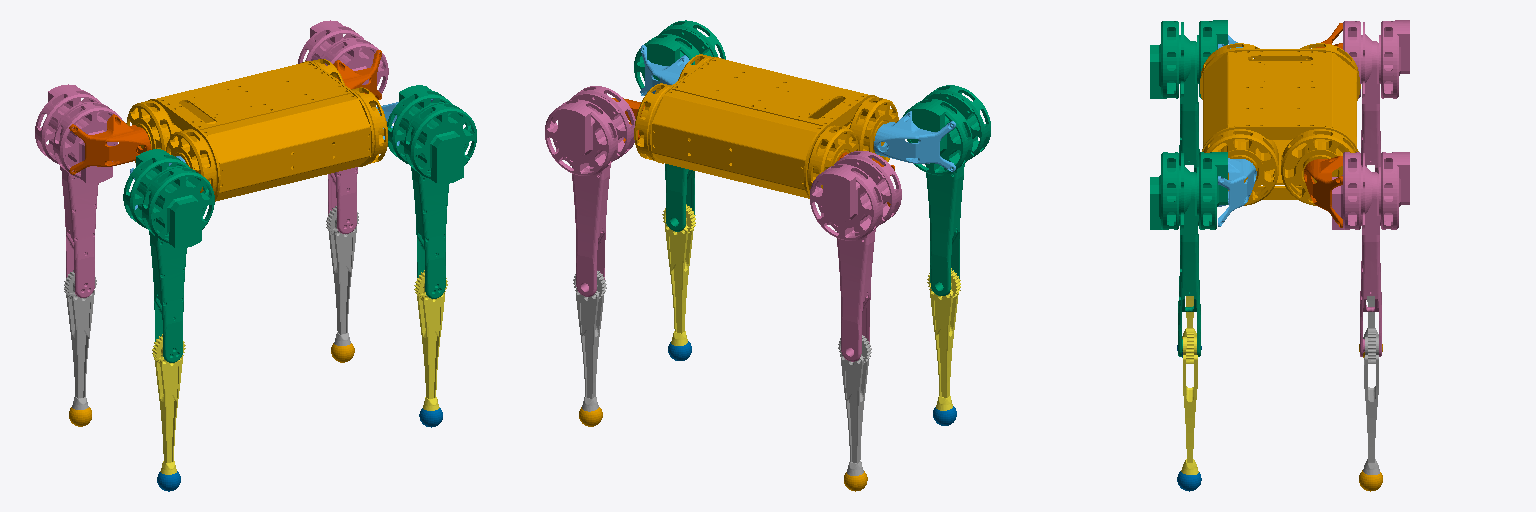
The robot description file, URDF, robot "mini_cheetah":
<?xml version="1.0" ?>
<robot name="mini_cheetah" xmlns:xacro="http://ros.org/wiki/xacro">
    <link name="body">
        <inertial>
            <mass value="3.3"/>
            <origin xyz="0.0 0.0 0.0"/>
            <inertia ixx="0.011253" ixy="0" ixz="0" iyy="0.036203" iyz="0" izz="0.042673"/>
        </inertial>
        <visual>
            <geometry>
                <mesh filename="meshes/mini_body.obj"/>
            </geometry>
            <origin rpy="0.0 0.0 0.0" xyz="0.0 0.0 0.0"/>
        </visual>
        <collision>
            <geometry>
                <mesh filename="meshes/mini_body.obj"/>
            </geometry>
            <origin rpy="0 0 0" xyz="0 0 0"/>
        </collision>
    </link>

    <!--!!!!!!!!!!!! Front Right Leg !!!!!!!!!!!!!!!!!!!!!!!!!!!!!!!!!!!!-->
    <joint name="torso_to_abduct_fr_j" type="continuous">
        <axis xyz="1 0 0"/>
        <origin rpy="0 0 0" xyz="0.19 -0.049 0.0"/>
        <parent link="body"/>
        <child link="abduct_fr"/>
    </joint>
    <link name="abduct_fr">
        <inertial>
            <mass value="0.54"/>
            <origin xyz="0.0 0.036 0."/>
            <inertia ixx="0.000381" ixy="0.000058" ixz="0.00000045" 
                iyy="0.000560" iyz="0.00000095" izz="0.000444"/>
        </inertial>
        <visual>
            <geometry>
                <mesh filename="meshes/mini_abad.obj"/>
            </geometry>
            <origin rpy="3.141592 0.0 1.5708" xyz="-0.055 0.0 0.0"/>
        </visual>
        <collision>
            <geometry>
                <mesh filename="meshes/mini_abad.obj"/>
            </geometry>
            <origin rpy="3.141592 0 1.5708" xyz="-0.055 0 0"/>
        </collision>
    </link>

    <joint name="abduct_fr_to_thigh_fr_j" type="continuous">
        <axis xyz="0 -1 0"/>
        <origin rpy="0.0 0.0 0.0" xyz="0.0 -0.062 0.00"/>
        <parent link="abduct_fr"/>
        <child link="thigh_fr"/>
    </joint>
    <link name="thigh_fr">
        <inertial>
            <mass value="0.634"/>
            <origin xyz="0.0 0.016 -0.02"/>
            <inertia ixx="0.001983" ixy="0.000245" ixz="0.000013" 
                iyy="0.002103" iyz="0.0000015" izz="0.000408"/>
        </inertial>
        <visual>
            <geometry>
                <mesh filename="meshes/mini_upper_link.obj"/>
            </geometry>
            <origin rpy="0.0 -1.5708 0.0" xyz="0.0 0.0 0.0"/>
        </visual>
        <collision>
            <geometry>
                <mesh filename="meshes/mini_upper_link.obj"/>
            </geometry>
            <origin rpy="0 -1.5708 0" xyz="0 0 0"/>
        </collision>
    </link>

    <joint name="thigh_fr_to_knee_fr_j" type="continuous">
        <axis xyz="0 -1 0"/>
        <origin rpy="0.0 0 0.0" xyz="0.0 0.0 -0.209"/>
        <parent link="thigh_fr"/>
        <child link="shank_fr"/>
    </joint>
    <link name="shank_fr">
        <inertial>
            <mass value="0.064"/>
            <origin xyz="0.0 0.0 -0.209"/>
            <inertia ixx="0.000245" ixy="0" ixz="0.0" iyy="0.000248" iyz="0" izz="0.000006"/>
        </inertial>
        <visual>
            <geometry>
                <mesh filename="meshes/mini_lower_link.obj"/>
            </geometry>
            <origin rpy="0.0 3.141592 0.0" xyz="0.0 0.0 0.0"/>
        </visual>
        <collision>
            <geometry>
                <mesh filename="meshes/mini_lower_link.obj"/>
            </geometry>
            <origin rpy="0 3.141592 0" xyz="0 0 0"/>
        </collision>
    </link>
    <link name="toe_fr">
    <contact>
      <friction_anchor/>
      <stiffness value="30000.0"/>
      <damping value="1000.0"/>
      <spinning_friction value="0.3"/>
      <lateral_friction value="3.0"/>
    </contact>
    <visual>
      <origin rpy="0 0 0" xyz="0 0 0"/>
      <geometry>
        <sphere radius="0.015"/>
      </geometry>
      <material name="darkgray"/>
    </visual>
    <collision>
      <origin rpy="0 0 0" xyz="0 0 0"/>
      <geometry>
        <sphere radius="0.015"/>
      </geometry>
    </collision>
    <inertial>
      <mass value="0.15"/>
      <inertia ixx="0.000025" ixy="0" ixz="0" iyy="0.000025" iyz="0" izz="0.000025"/>
    </inertial>
  </link>
  <joint name="toe_fr_joint" type="fixed">
    <parent link="shank_fr"/>
    <child link="toe_fr"/>
    <origin xyz="0 0 -0.18"/>
    <dynamics damping="0.0" friction="0.0"/>
  </joint>

 
<!--!!!!!!!!!!!! Front Left Leg !!!!!!!!!!!!!!!!!!!!!!!!!!!!!!!!!!!!-->
    <joint name="torso_to_abduct_fl_j" type="continuous">
        <axis xyz="1 0 0"/>
        <origin rpy="0 0 0" xyz="0.19 0.049 0.0"/>
        <parent link="body"/>
        <child link="abduct_fl"/>
    </joint>
    <link name="abduct_fl">
        <inertial>
            <mass value="0.54"/>
            <origin xyz="0.0 0.036 0."/>
            <inertia ixx="0.000381" ixy="0.000058" ixz="0.00000045" 
                iyy="0.000560" iyz="0.00000095" izz="0.000444"/>
        </inertial>
        <visual>
            <geometry>
                <mesh filename="meshes/mini_abad.obj"/>
            </geometry>
            <origin rpy="0. 0. -1.5708" xyz="-0.055 0.0 0.0"/>
        </visual>
        <collision>
            <geometry>
                <mesh filename="meshes/mini_abad.obj"/>
            </geometry>
            <origin rpy="0 0 -1.5708" xyz="-0.055 0 0"/>
        </collision>
    </link>

    <joint name="abduct_fl_to_thigh_fl_j" type="continuous">
        <axis xyz="0 -1 0"/>
        <origin rpy="0.0 0.0 0.0" xyz="0.0 0.062 0.00"/>
        <parent link="abduct_fl"/>
        <child link="thigh_fl"/>
    </joint>
    <link name="thigh_fl">
        <inertial>
            <mass value="0.634"/>
            <origin xyz="0.0 0.016 -0.02"/>
            <inertia ixx="0.001983" ixy="0.000245" ixz="0.000013" 
                iyy="0.002103" iyz="0.0000015" izz="0.000408"/>
        </inertial>
        <visual>
            <geometry>
                <mesh filename="meshes/mini_upper_link.obj"/>
            </geometry>
            <origin rpy="0.0 -1.5708 0.0" xyz="0.0 0.0 0.0"/>
        </visual>
        <collision>
            <geometry>
                <mesh filename="meshes/mini_upper_link.obj"/>
            </geometry>
            <origin rpy="0 -1.5708 0" xyz="0 0 0"/>
        </collision>
    </link>

    <joint name="thigh_fl_to_knee_fl_j" type="continuous">
        <axis xyz="0 -1 0"/>
        <origin rpy="0.0 0 0.0" xyz="0.0 0.0 -0.209"/>
        <parent link="thigh_fl"/>
        <child link="shank_fl"/>
    </joint>
    <link name="shank_fl">
        <inertial>
            <mass value="0.064"/>
            <origin xyz="0.0 0.0 -0.209"/>
            <inertia ixx="0.000245" ixy="0" ixz="0.0" iyy="0.000248" iyz="0" izz="0.000006"/>
        </inertial>
        <visual>
            <geometry>
                <mesh filename="meshes/mini_lower_link.obj"/>
            </geometry>
            <origin rpy="0.0 3.141592 0.0" xyz="0.0 0.0 0.0"/>
        </visual>
        <collision>
            <geometry>
                <mesh filename="meshes/mini_lower_link.obj"/>
            </geometry>
            <origin rpy="0 3.141592 0" xyz="0 0 0"/>
        </collision>
    </link>
    <link name="toe_fl">
      <contact>
      <friction_anchor/>
      <stiffness value="30000.0"/>
      <damping value="1000.0"/>
      <spinning_friction value="0.3"/>
      <lateral_friction value="3.0"/>
    </contact>
    <visual>
      <origin rpy="0 0 0" xyz="0 0 0"/>
      <geometry>
        <sphere radius="0.015"/>
      </geometry>
      <material name="darkgray"/>
    </visual>
    <collision>
      <origin rpy="0 0 0" xyz="0 0 0"/>
      <geometry>
        <sphere radius="0.015"/>
      </geometry>
    </collision>
    <inertial>
      <mass value="0.15"/>
      <inertia ixx="0.000025" ixy="0" ixz="0" iyy="0.000025" iyz="0" izz="0.000025"/>
    </inertial>
  </link>
  <joint name="toe_fl_joint" type="fixed">
    <parent link="shank_fl"/>
    <child link="toe_fl"/>
    <origin xyz="0 0 -0.18"/>
    <dynamics damping="0.0" friction="0.0"/>
  </joint>


<!--!!!!!!!!!!!! Hind Right Leg !!!!!!!!!!!!!!!!!!!!!!!!!!!!!!!!!!!!-->
    <joint name="torso_to_abduct_hr_j" type="continuous">
        <axis xyz="1 0 0"/>
        <origin rpy="0 0 0" xyz="-0.19 -0.049 0.0"/>
        <parent link="body"/>
        <child link="abduct_hr"/>
    </joint>
    <link name="abduct_hr">
        <inertial>
            <mass value="0.54"/>
            <origin xyz="0.0 0.036 0."/>
            <inertia ixx="0.000381" ixy="0.000058" ixz="0.00000045" 
                iyy="0.000560" iyz="0.00000095" izz="0.000444"/>
        </inertial>
        <visual>
            <geometry>
                <mesh filename="meshes/mini_abad.obj"/>
            </geometry>
            <origin rpy="0.0 0.0 1.5708" xyz="0.055 0.0 0.0"/>
        </visual>
        <collision>
            <geometry>
                <mesh filename="meshes/mini_abad.obj"/>
            </geometry>
            <origin rpy="0 0 1.5708" xyz="0.055 0 0"/>
        </collision>
    </link>

    <joint name="abduct_hr_to_thigh_hr_j" type="continuous">
        <axis xyz="0 -1 0"/>
        <origin rpy="0.0 0.0 0.0" xyz="0.0 -0.062 0.00"/>
        <parent link="abduct_hr"/>
        <child link="thigh_hr"/>
    </joint>
    <link name="thigh_hr">
        <inertial>
            <mass value="0.634"/>
            <origin xyz="0.0 0.016 -0.02"/>
            <inertia ixx="0.001983" ixy="0.000245" ixz="0.000013" 
                iyy="0.002103" iyz="0.0000015" izz="0.000408"/>
        </inertial>
        <visual>
            <geometry>
                <mesh filename="meshes/mini_upper_link.obj"/>
            </geometry>
            <origin rpy="0.0 -1.5708 0.0" xyz="0.0 0.0 0.0"/>
        </visual>
        <collision>
            <geometry>
                <mesh filename="meshes/mini_upper_link.obj"/>
            </geometry>
            <origin rpy="0 -1.5708 0" xyz="0 0 0"/>
        </collision>
    </link>

    <joint name="thigh_hr_to_knee_hr_j" type="continuous">
        <axis xyz="0 -1 0"/>
        <origin rpy="0.0 0 0.0" xyz="0.0 0.0 -0.209"/>
        <parent link="thigh_hr"/>
        <child link="shank_hr"/>
    </joint>
    <link name="shank_hr">
        <inertial>
            <mass value="0.064"/>
            <origin xyz="0.0 0.0 -0.209"/>
            <inertia ixx="0.000245" ixy="0" ixz="0.0" iyy="0.000248" iyz="0" izz="0.000006"/>
        </inertial>
        <visual>
            <geometry>
                <mesh filename="meshes/mini_lower_link.obj"/>
            </geometry>
            <origin rpy="0.0 3.141592 0.0" xyz="0.0 0.0 0.0"/>
        </visual>
        <collision>
            <geometry>
                <mesh filename="meshes/mini_lower_link.obj"/>
            </geometry>
            <origin rpy="0 3.141592 0" xyz="0 0 0"/>
        </collision>
    </link>
     <link name="toe_hr">
      <contact>
      <friction_anchor/>
      <stiffness value="30000.0"/>
      <damping value="1000.0"/>
      <spinning_friction value="0.3"/>
      <lateral_friction value="3.0"/>
    </contact>
    <visual>
      <origin rpy="0 0 0" xyz="0 0 0"/>
      <geometry>
        <sphere radius="0.015"/>
      </geometry>
      <material name="darkgray"/>
    </visual>
    <collision>
      <origin rpy="0 0 0" xyz="0 0 0"/>
      <geometry>
        <sphere radius="0.015"/>
      </geometry>
    </collision>
    <inertial>
      <mass value="0.15"/>
      <inertia ixx="0.000025" ixy="0" ixz="0" iyy="0.000025" iyz="0" izz="0.000025"/>
    </inertial>
  </link>
  <joint name="toe_hr_joint" type="fixed">
    <parent link="shank_hr"/>
    <child link="toe_hr"/>
    <origin xyz="0 0 -0.18"/>
    <dynamics damping="0.0" friction="0.0"/>
  </joint>


<!--!!!!!!!!!!!! Hind Left Leg !!!!!!!!!!!!!!!!!!!!!!!!!!!!!!!!!!!!-->
    <joint name="torso_to_abduct_hl_j" type="continuous">
        <axis xyz="1 0 0"/>
        <origin rpy="0 0 0" xyz="-0.19 0.049 0.0"/>
        <parent link="body"/>
        <child link="abduct_hl"/>
    </joint>
    <link name="abduct_hl">
        <inertial>
            <mass value="0.54"/>
            <origin xyz="0.0 0.036 0."/>
            <inertia ixx="0.000381" ixy="0.000058" ixz="0.00000045" 
                iyy="0.000560" iyz="0.00000095" izz="0.000444"/>
        </inertial>
        <visual>
            <geometry>
                <mesh filename="meshes/mini_abad.obj"/>
            </geometry>
            <origin rpy="3.141592 0.0 -1.5708" xyz="0.055 0.0 0.0"/>
        </visual>
        <collision>
            <geometry>
                <mesh filename="meshes/mini_abad.obj"/>
            </geometry>
            <origin rpy="3.141592 0 -1.5708" xyz="0.055 0 0"/>
        </collision>
    </link>

    <joint name="abduct_hl_to_thigh_hl_j" type="continuous">
        <axis xyz="0 -1 0"/>
        <origin rpy="0.0 0.0 0.0" xyz="0.0 0.062 0.00"/>
        <parent link="abduct_hl"/>
        <child link="thigh_hl"/>
    </joint>
    <link name="thigh_hl">
        <inertial>
            <mass value="0.634"/>
            <origin xyz="0.0 0.016 -0.02"/>
            <inertia ixx="0.001983" ixy="0.000245" ixz="0.000013" 
                iyy="0.002103" iyz="0.0000015" izz="0.000408"/>
        </inertial>
        <visual>
            <geometry>
                <mesh filename="meshes/mini_upper_link.obj"/>
            </geometry>
            <origin rpy="0.0 -1.5708 0.0" xyz="0.0 0.0 0.0"/>
        </visual>
        <collision>
            <geometry>
                <mesh filename="meshes/mini_upper_link.obj"/>
            </geometry>
            <origin rpy="0 -1.5708 0" xyz="0 0 0"/>
        </collision>
    </link>

    <joint name="thigh_hl_to_knee_hl_j" type="continuous">
        <axis xyz="0 -1 0"/>
        <origin rpy="0.0 0 0.0" xyz="0.0 0.0 -0.209"/>
        <parent link="thigh_hl"/>
        <child link="shank_hl"/>
    </joint>
    <link name="shank_hl">
        <inertial>
            <mass value="0.064"/>
            <origin xyz="0.0 0.0 -0.209"/>
            <inertia ixx="0.000245" ixy="0" ixz="0.0" iyy="0.000248" iyz="0" izz="0.000006"/>
        </inertial>
        <visual>
            <geometry>
                <mesh filename="meshes/mini_lower_link.obj"/>
            </geometry>
            <origin rpy="0.0 3.141592 0.0" xyz="0.0 0.0 0.0"/>
        </visual>
        <collision>
            <geometry>
                <mesh filename="meshes/mini_lower_link.obj"/>
            </geometry>
            <origin rpy="0 3.141592 0" xyz="0 0 0"/>
        </collision>
    </link>
    <link name="toe_hl">
      <contact>
      <friction_anchor/>
      <stiffness value="30000.0"/>
      <damping value="1000.0"/>
      <spinning_friction value="0.3"/>
      <lateral_friction value="3.0"/>
    </contact>
    <visual>
      <origin rpy="0 0 0" xyz="0 0 0"/>
      <geometry>
        <sphere radius="0.015"/>
      </geometry>
      <material name="darkgray"/>
    </visual>
    <collision>
      <origin rpy="0 0 0" xyz="0 0 0"/>
      <geometry>
        <sphere radius="0.015"/>
      </geometry>
    </collision>
    <inertial>
      <mass value="0.15"/>
      <inertia ixx="0.000025" ixy="0" ixz="0" iyy="0.000025" iyz="0" izz="0.000025"/>
    </inertial>
  </link>
  <joint name="toe_hl_joint" type="fixed">
    <parent link="shank_hl"/>
    <child link="toe_hl"/>
    <origin xyz="0 0 -0.18"/>
    <dynamics damping="0.0" friction="0.0"/>
  </joint>



</robot>

--- Render facts (derived) ---
3 views of the same robot in one strip: view 1: azimuth 30°, elevation 25°; view 2: azimuth 150°, elevation 25°; view 3: azimuth 270°, elevation 25° (orthographic).
Robot: mini_cheetah — 17 links, 16 joints (12 continuous, 4 fixed); root link body; default pose: every joint at zero.
Links seen in each view (by area): view 1: body, thigh_hr, thigh_fr, thigh_hl, thigh_fl, abduct_hl, shank_hl, shank_fl, shank_hr, shank_fr, abduct_fl; view 2: body, thigh_hl, thigh_fl, thigh_hr, thigh_fr, abduct_hr, shank_fr, shank_hr, shank_fl, shank_hl, abduct_fr; view 3: body, thigh_fr, thigh_fl, thigh_hr, thigh_hl, shank_fl, shank_fr, abduct_fl, abduct_fr.
Link boxes in pixels (left/top/right/bottom): body: left=126, top=59, right=387, bottom=201; thigh_hr: left=123, top=149, right=214, bottom=362; thigh_fr: left=387, top=85, right=476, bottom=298; thigh_hl: left=35, top=84, right=122, bottom=297; thigh_fl: left=298, top=20, right=388, bottom=233; abduct_hl: left=69, top=114, right=150, bottom=174; shank_hl: left=64, top=270, right=96, bottom=409; shank_fl: left=326, top=206, right=358, bottom=345; shank_hr: left=152, top=334, right=185, bottom=474; shank_fr: left=414, top=270, right=447, bottom=410; abduct_fl: left=333, top=50, right=381, bottom=99; body: left=634, top=54, right=898, bottom=198; thigh_hl: left=810, top=151, right=901, bottom=361; thigh_fl: left=545, top=86, right=635, bottom=296; thigh_hr: left=903, top=85, right=990, bottom=295; thigh_fr: left=634, top=20, right=725, bottom=231; abduct_hr: left=874, top=111, right=955, bottom=171; shank_fr: left=662, top=204, right=695, bottom=345; shank_hr: left=927, top=268, right=960, bottom=410; shank_fl: left=573, top=271, right=606, bottom=411; shank_hl: left=838, top=335, right=871, bottom=475; abduct_fr: left=640, top=45, right=689, bottom=95; body: left=1200, top=43, right=1360, bottom=205; thigh_fr: left=1150, top=152, right=1227, bottom=356; thigh_fl: left=1332, top=152, right=1409, bottom=356; thigh_hr: left=1150, top=20, right=1227, bottom=225; thigh_hl: left=1343, top=20, right=1409, bottom=225; shank_fl: left=1363, top=328, right=1379, bottom=474; shank_fr: left=1181, top=328, right=1198, bottom=474; abduct_fl: left=1304, top=156, right=1342, bottom=227; abduct_fr: left=1218, top=158, right=1256, bottom=226.
Bounding box of the posed robot: 0.476 × 0.318 × 0.455 m (x, y, z).
13 mesh visuals loaded from 4 distinct referenced files (4 OBJ).